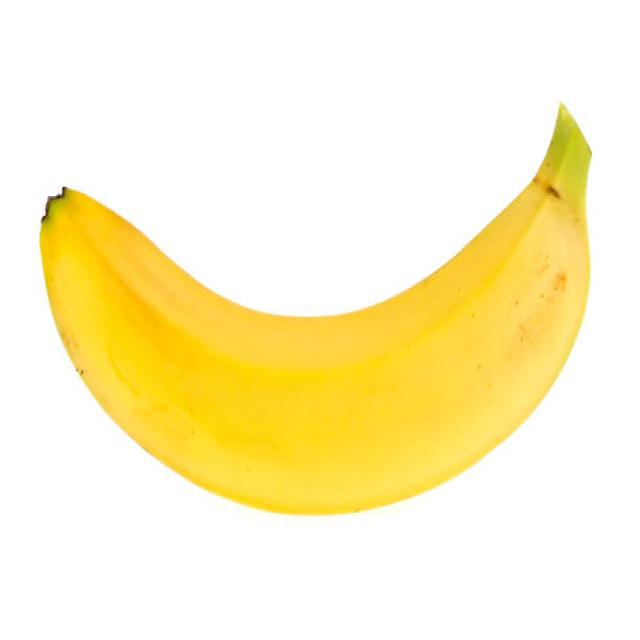banana: (38, 105, 593, 515)
